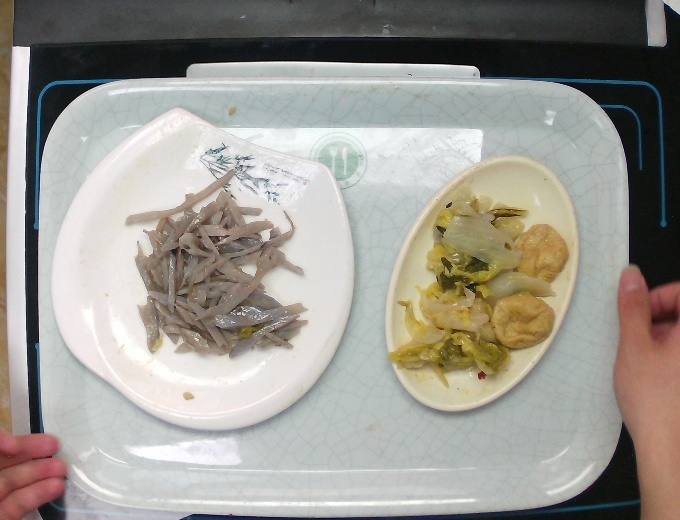JYsf-Mian_Pan: (47, 98, 362, 431)
JYsf-Tuo_Yuan_Wan: (382, 154, 583, 417)
